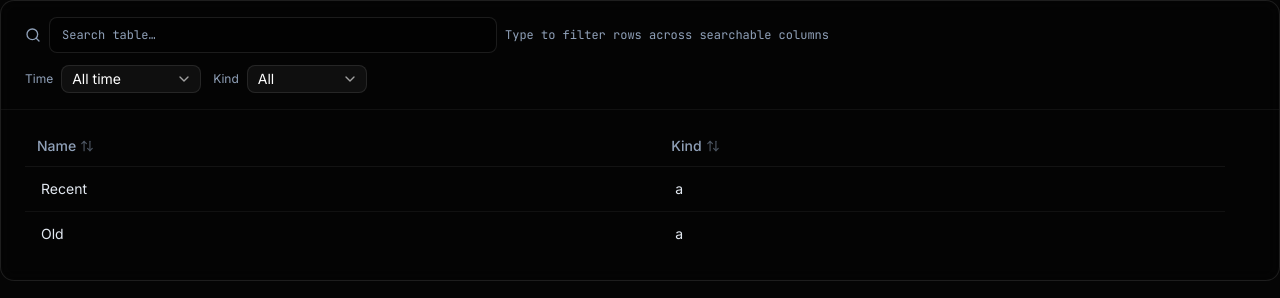
Test: TsocDataTable › filters rows by time filter when enabled
The image size is (1280, 298).
Click the dropdown named "Time filter".
click(131, 79)  # box [61,65,201,93]
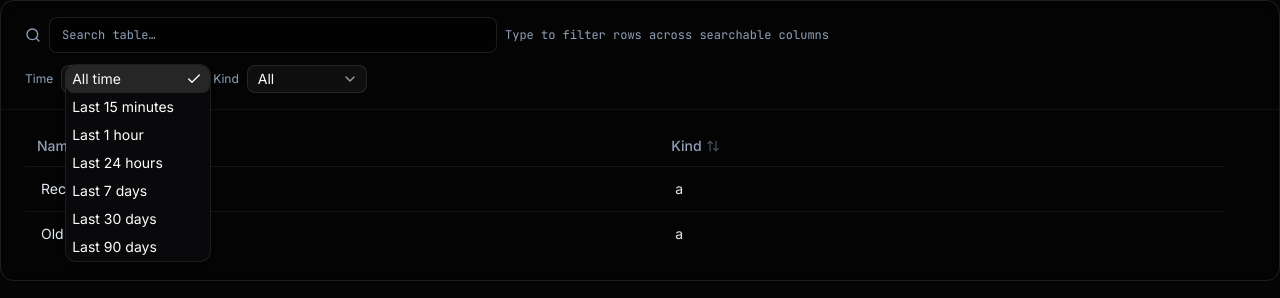
Click the option "Last 1 hour".
click(108, 134)  # box [72,126,144,143]
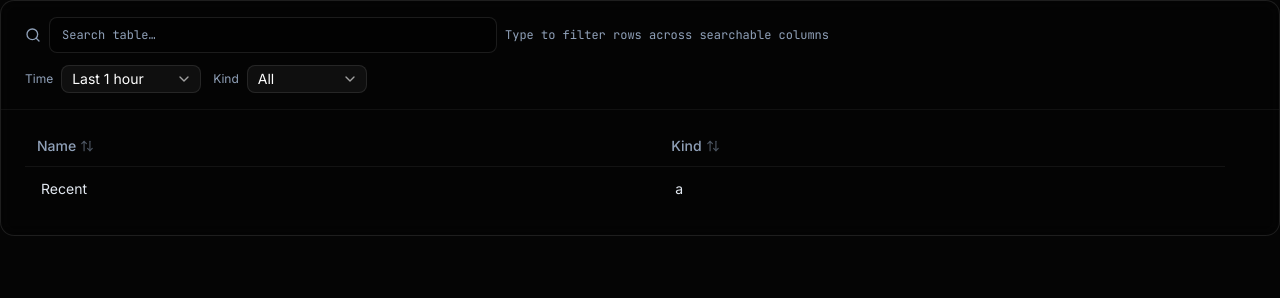
Expected: the text "Recent" is shown, [25,166,659,210]
Expected: the text "Old" is gone
